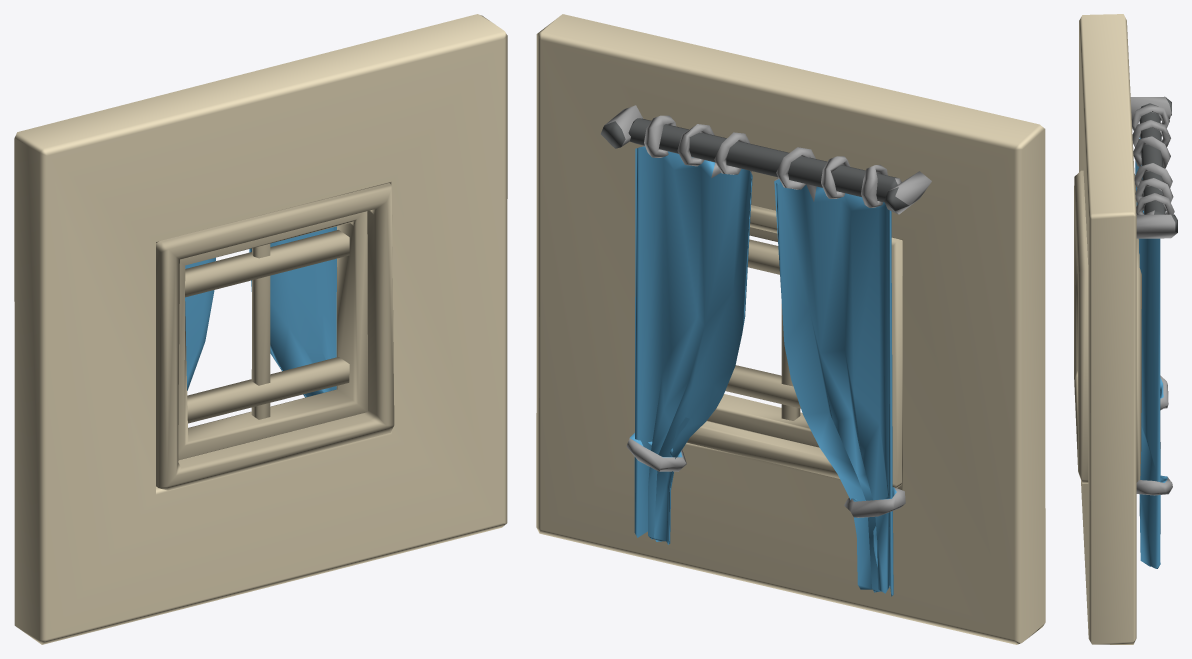
The model's file is window_LOD2.fbx.
3 renders of one model, left to right at view 1: azimuth 30°, elevation 25°; view 2: azimuth 150°, elevation 25°; view 3: azimuth 270°, elevation 25°, orthographic. The views are drawn at different scales.
Visible parts, largest first — view 1: window_001; view 2: window_001; view 3: window_001.
Part boxes in pixels (x1,y1,x2,y2): window_001: (14, 14, 507, 644); window_001: (536, 14, 1045, 644); window_001: (1074, 14, 1177, 644).
Bounding box in the file's own units: 836 × 835 × 181.
